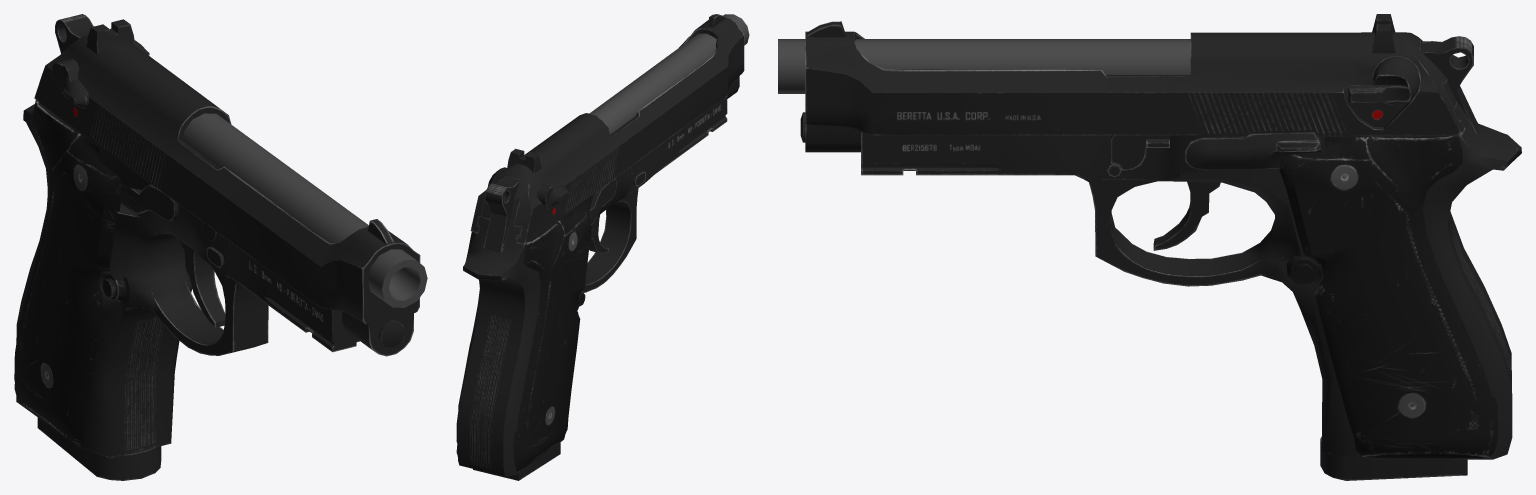
3 renders of one model, left to right at view 1: azimuth 30°, elevation 25°; view 2: azimuth 150°, elevation 25°; view 3: azimuth 270°, elevation 25°, orthographic. The views are drawn at different scales.
Parts seen in each view (by area): view 1: LP; view 2: LP; view 3: LP.
Boxes of the visible parts, x1,y1,x2,y2 form: LP: (14,14,427,480); LP: (456,14,749,480); LP: (778,14,1521,480).
Size of the model in its own units: 3.51 by 14.25 by 21.68.
